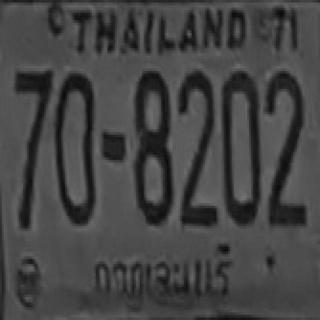N00: (54, 71, 94, 224), (220, 70, 259, 222)
N02: (265, 70, 304, 227), (177, 70, 216, 226)
N07: (13, 69, 52, 229)
N08: (133, 68, 171, 224)
P17: (86, 240, 235, 307)
